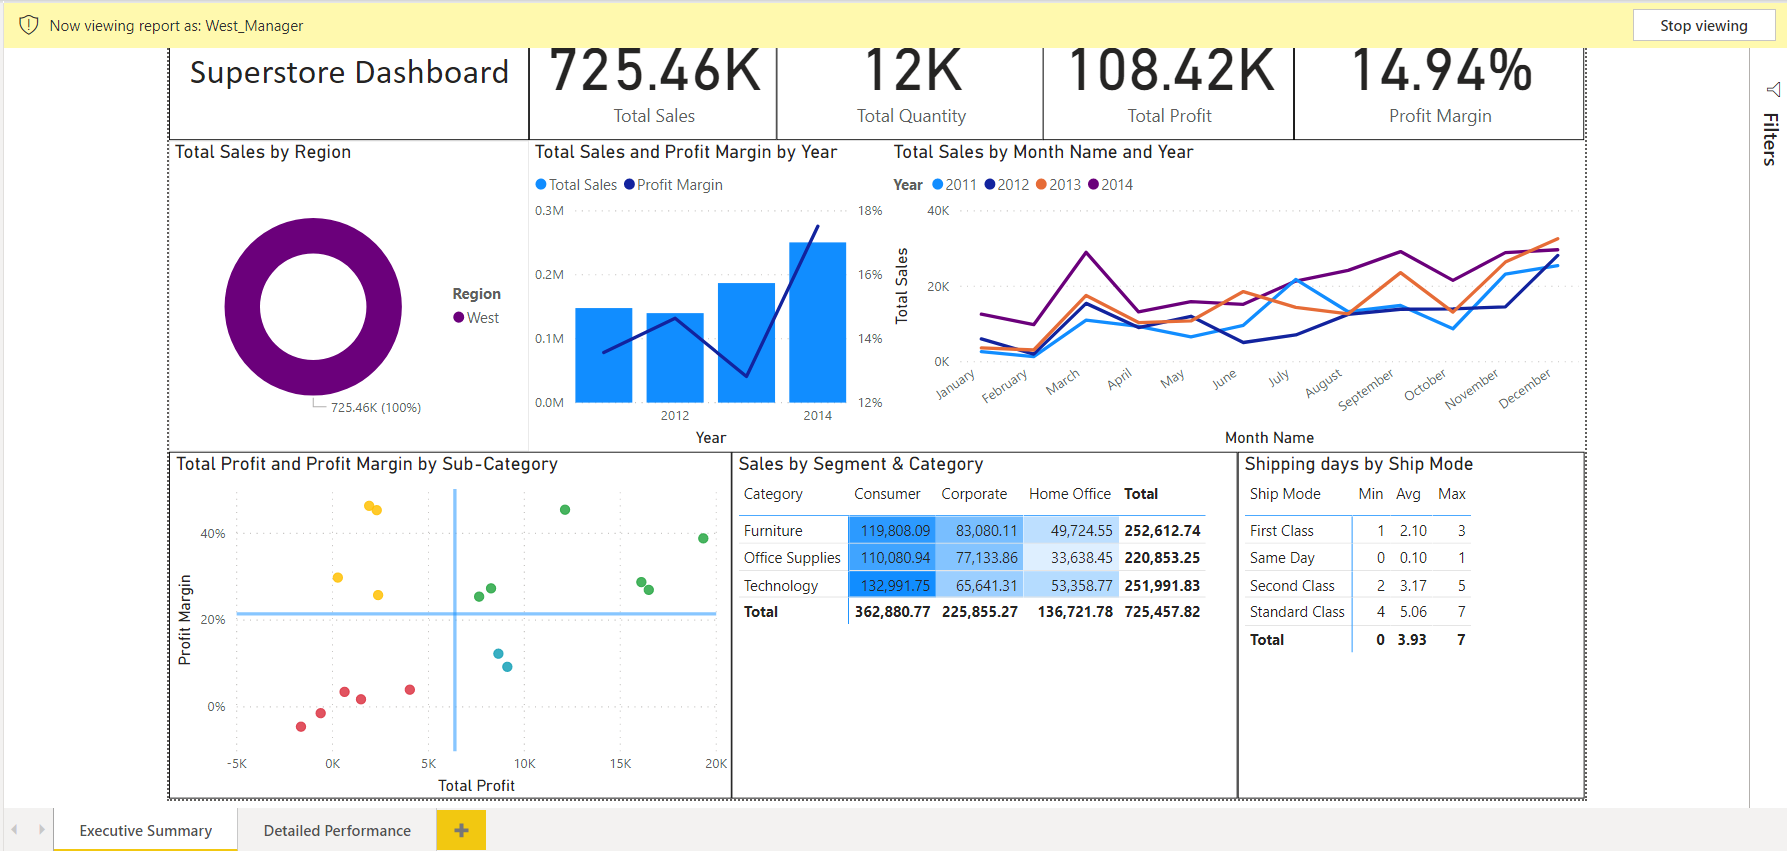

Layout of this report page (visuals, bound fields, positions):
{"tool":"powerbi","page":{"name":"Executive Summary","canvas":[1280,720],"ordinal":0},"visuals":[{"type":"lineClusteredColumnComboChart","fields":{"Category":["Dim_Date_PQ.Year"],"Y":["_Measures.Total Sales"],"Y2":["_Measures.Profit Margin"]},"box":[325.2,124,325.2,281.8],"z":0},{"type":"donutChart","fields":{"Category":["Fact_Sales.Region"],"Y":["_Measures.Total Sales"]},"box":[0,124,325.2,281.8],"z":1000},{"type":"lineChart","fields":{"Category":["Dim_Date_PQ.Month Name"],"Series":["Dim_Date_PQ.Year"],"Y":["_Measures.Total Sales"]},"box":[650.5,124,629.5,281.8],"z":2000},{"type":"card","title":"test","fields":{"Values":["_Measures.Total Sales"]},"box":[325.2,0,223.8,124],"z":3000},{"type":"card","fields":{"Values":["_Measures.Total Quantity"]},"box":[549,0,241.5,124],"z":4000},{"type":"card","fields":{"Values":["_Measures.Total Profit"]},"box":[790.5,0,227,124],"z":5000},{"type":"card","fields":{"Values":["_Measures.Profit Margin"]},"box":[1017.6,0,262.4,124],"z":6000},{"type":"pivotTable","title":"Shipping days by Ship Mode","fields":{"Rows":["Fact_Sales.Ship Mode"],"Values":["Min(Fact_Sales.Shipping Days)","Avg(Fact_Sales.Shipping Days)1","Max(Fact_Sales.Shipping Days)2"]},"box":[966,405.7,314,314],"z":7000},{"type":"scatterChart","fields":{"X":["_Measures.Total Profit"],"Y":["_Measures.Profit Margin"],"Category":["Dim_Product.Sub-Category"]},"box":[0,405.7,508.8,314],"z":8000},{"type":"pivotTable","title":"Sales by Segment & Category","fields":{"Values":["_Measures.Total Sales"],"Columns":["Dim_Customer.Segment"],"Rows":["Dim_Product.Category"]},"box":[508.8,405.7,457.3,314],"z":9000},{"type":"textbox","box":[0,0,325.2,124],"z":10000}]}

Visuals, with their boxes on the page's 1280x720 design canvas (x1, y1, x2, y2). These are canvas units, not pixel positions in the 1787x851 screenshot, which may show the page scaled, cropped or inside an application window:
lineClusteredColumnComboChart - Dim_Date_PQ.Year x _Measures.Total Sales: box(325, 124, 650, 406)
donutChart - Fact_Sales.Region x _Measures.Total Sales: box(0, 124, 325, 406)
lineChart - Dim_Date_PQ.Month Name x Dim_Date_PQ.Year: box(650, 124, 1280, 406)
"test" card: box(325, 0, 549, 124)
card - _Measures.Total Quantity: box(549, 0, 790, 124)
card - _Measures.Total Profit: box(790, 0, 1018, 124)
card - _Measures.Profit Margin: box(1018, 0, 1280, 124)
"Shipping days by Ship Mode" pivotTable: box(966, 406, 1280, 720)
scatterChart - _Measures.Total Profit x _Measures.Profit Margin: box(0, 406, 509, 720)
"Sales by Segment & Category" pivotTable: box(509, 406, 966, 720)
textbox: box(0, 0, 325, 124)
